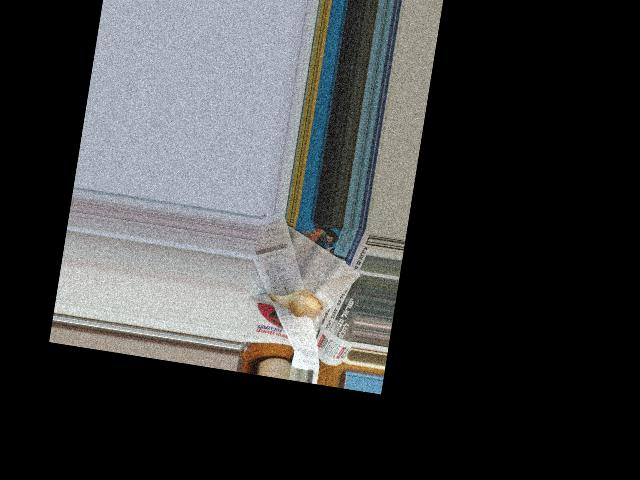onion: (270, 285, 321, 317)
